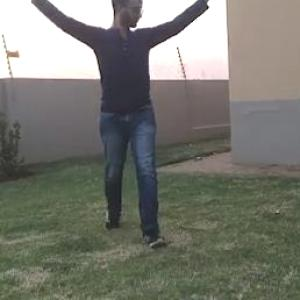takeoff: (1, 0, 241, 251)
